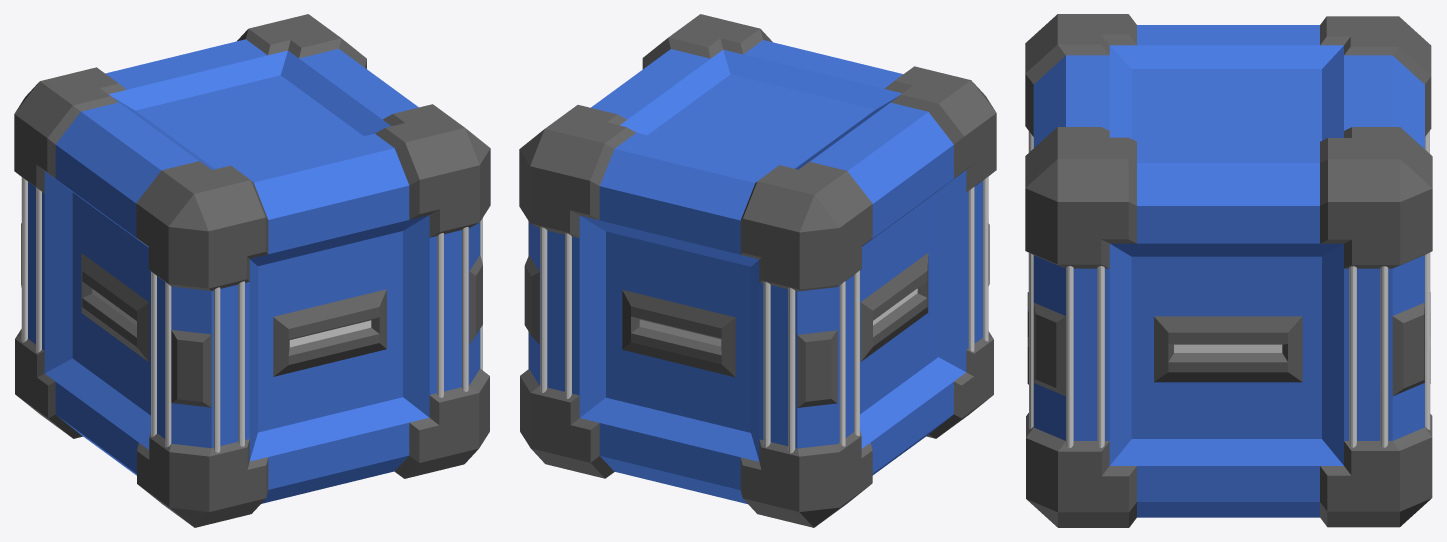
Rendered from HeavyBox 2.fbx.
3 renders of one model, left to right at view 1: azimuth 30°, elevation 25°; view 2: azimuth 150°, elevation 25°; view 3: azimuth 270°, elevation 25°, orthographic. The views are drawn at different scales.
Parts seen in each view (by area): view 1: HeavyBox 2; view 2: HeavyBox 2; view 3: HeavyBox 2.
Part boxes in pixels (bbox=[...]): HeavyBox 2: bbox=[14, 14, 490, 527]; HeavyBox 2: bbox=[519, 14, 996, 527]; HeavyBox 2: bbox=[1025, 14, 1432, 527].
Size of the model in its own units: 209 by 208 by 208.
